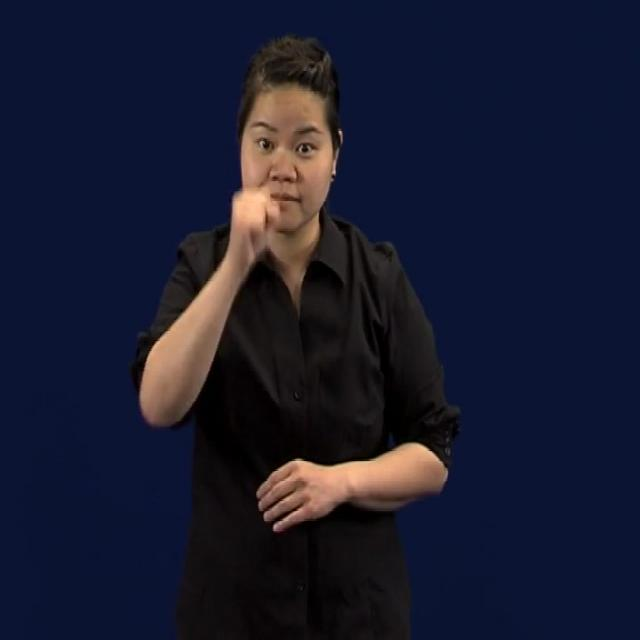icecream: (208, 180, 286, 300)
